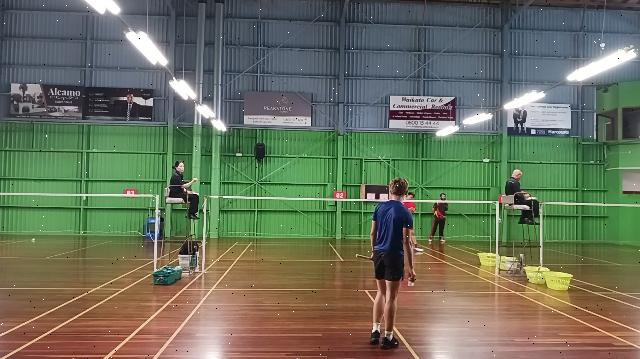Shuttlecock: (407, 276, 418, 288)
